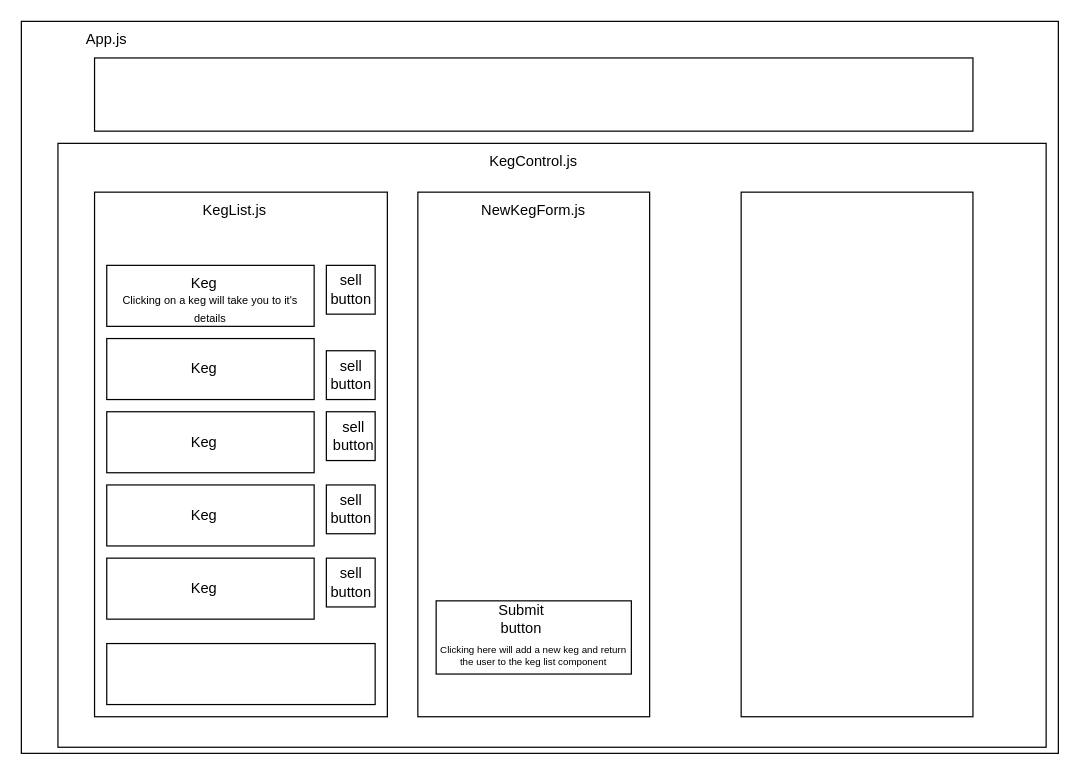
This 1080x775 diagram has some shape labels left out. The shapes that lost their labels are listed below. From the top down, each one's centre as x and y in pixels, then its label:
pixel 533 94: Heading
pixel 856 454: KegDetails.js
pixel 240 673: New Ticket form
